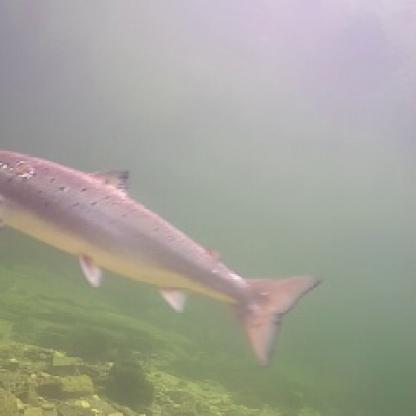salmon: (0, 148, 327, 368)
